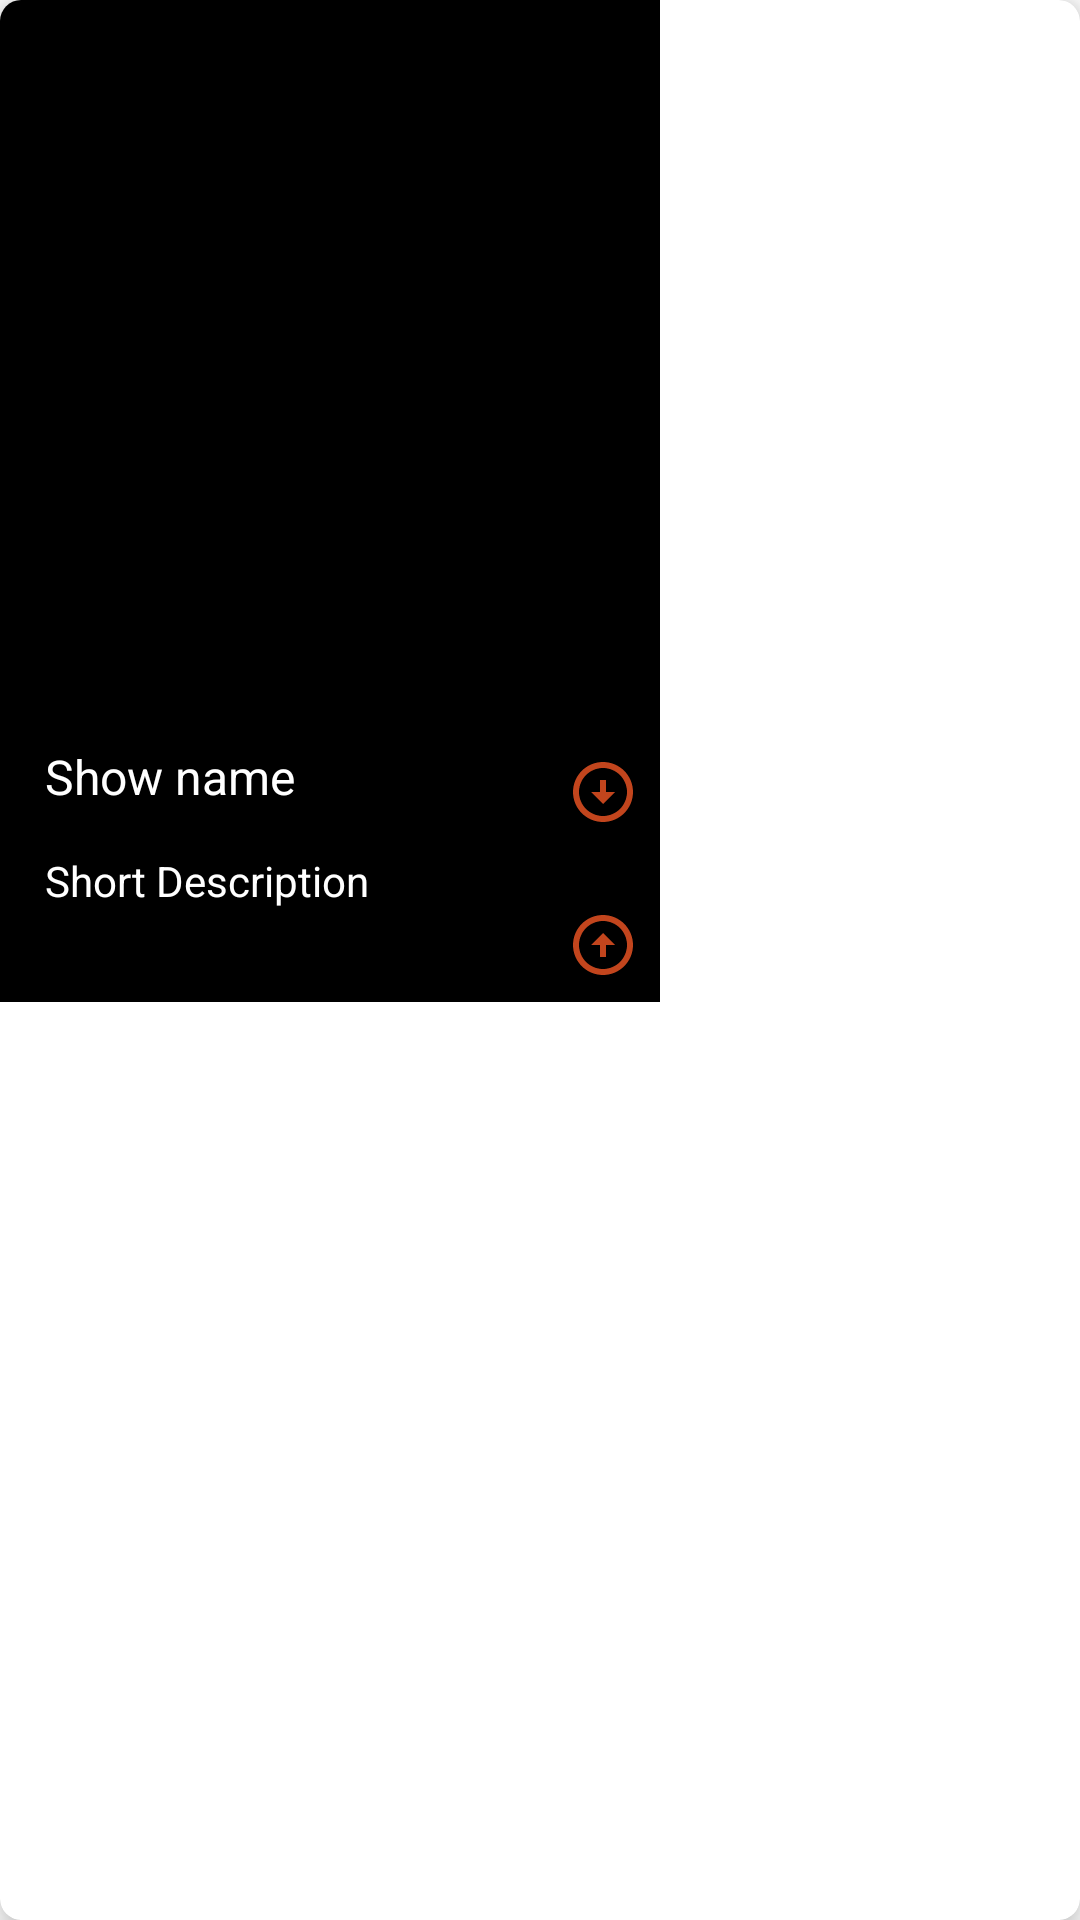

Icon bounding boxes for this 1080 × 1920 phone screenshot, format [left=x1, top=y1, right=x2, bottom=y2]:
arrow down: [left=573, top=762, right=633, bottom=822]
arrow up: [left=573, top=915, right=633, bottom=975]
